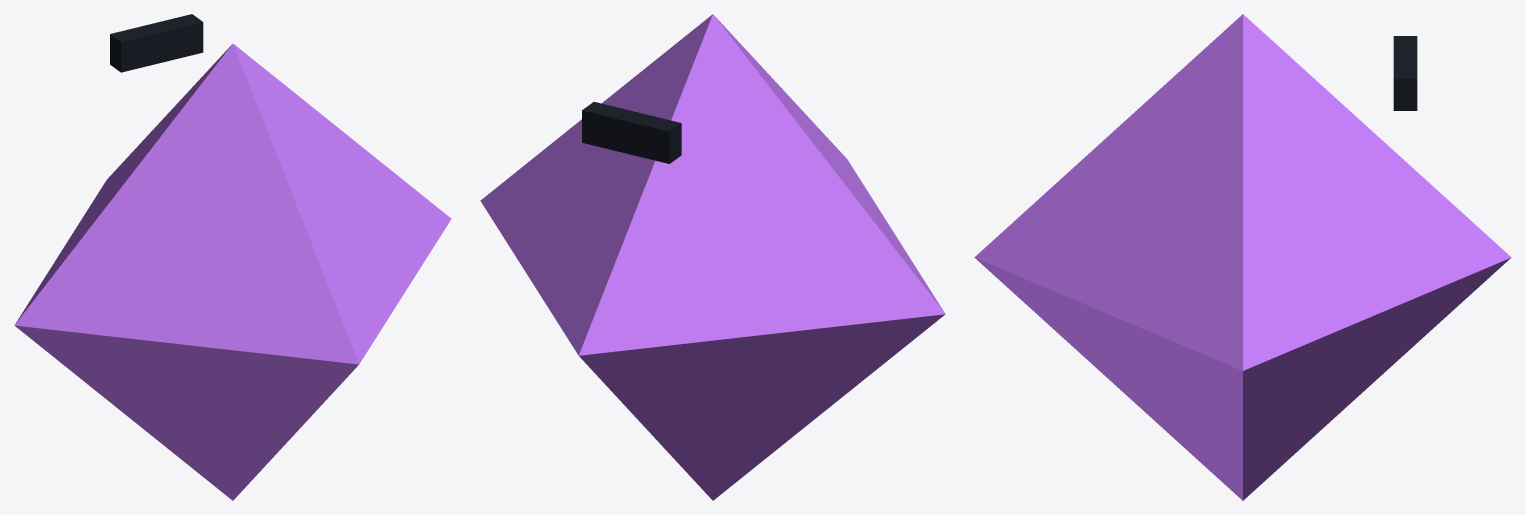
File: enemy-playground-chorus-witch-v1.glb
The picture shows the model from 3 angles, left to right: view 1: azimuth 30°, elevation 25°; view 2: azimuth 150°, elevation 25°; view 3: azimuth 270°, elevation 25°; orthographic projection. The views are drawn at different scales.
Visible parts, largest first — view 1: Chorus Witch; view 2: Chorus Witch; view 3: Chorus Witch.
Part boxes in pixels (x1,y1,x2,y2): Chorus Witch: (14, 14, 451, 500); Chorus Witch: (480, 14, 945, 500); Chorus Witch: (974, 14, 1511, 500).
Bounding box in the file's own units: 1.81 × 1.81 × 1.81.
